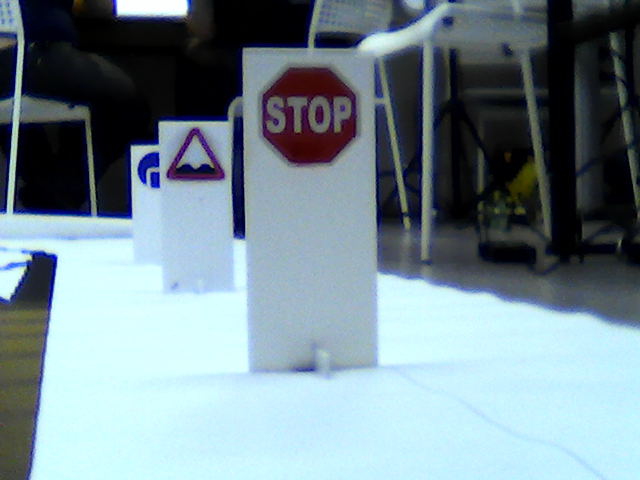Nerov: (164, 127, 225, 182)
Stop: (257, 60, 362, 168)
